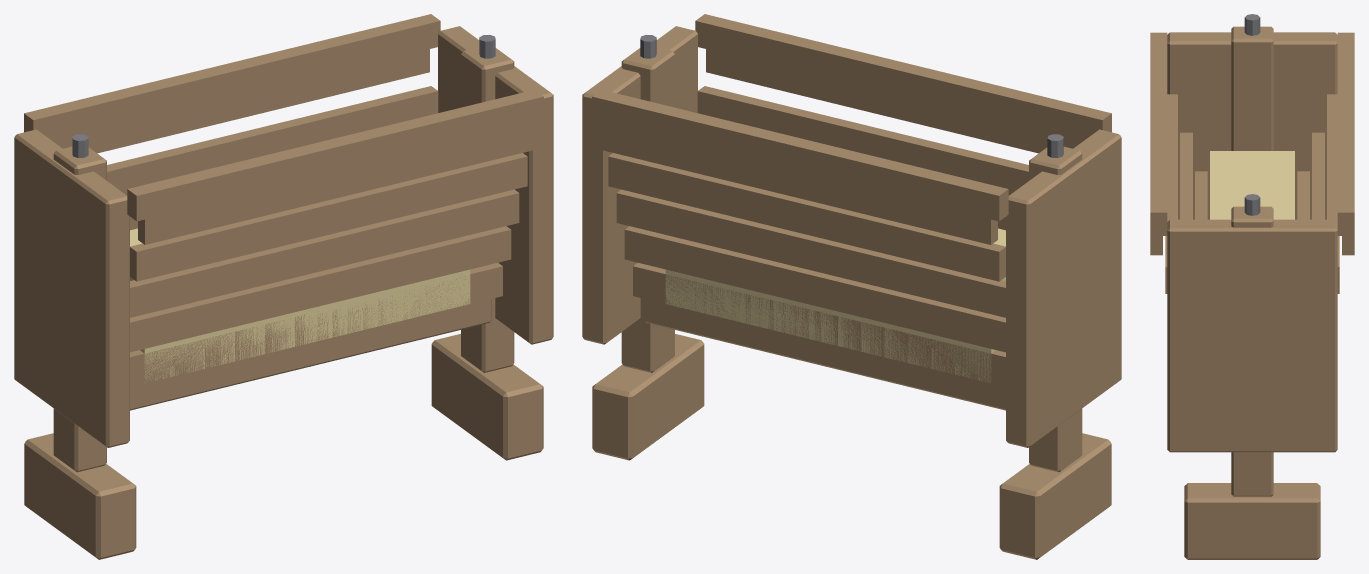
File: prop-manger-wood.fbx
3 renders of one model, left to right at view 1: azimuth 30°, elevation 25°; view 2: azimuth 150°, elevation 25°; view 3: azimuth 270°, elevation 25°, orthographic. The views are drawn at different scales.
Parts seen in each view (by area): view 1: prop-manger-wood; view 2: prop-manger-wood; view 3: prop-manger-wood.
Part boxes in pixels (<box>): prop-manger-wood: <box>14,14,553,559</box>; prop-manger-wood: <box>582,14,1121,559</box>; prop-manger-wood: <box>1150,14,1354,559</box>.
Size of the model in its own units: 1.1 by 0.92 by 0.48.
